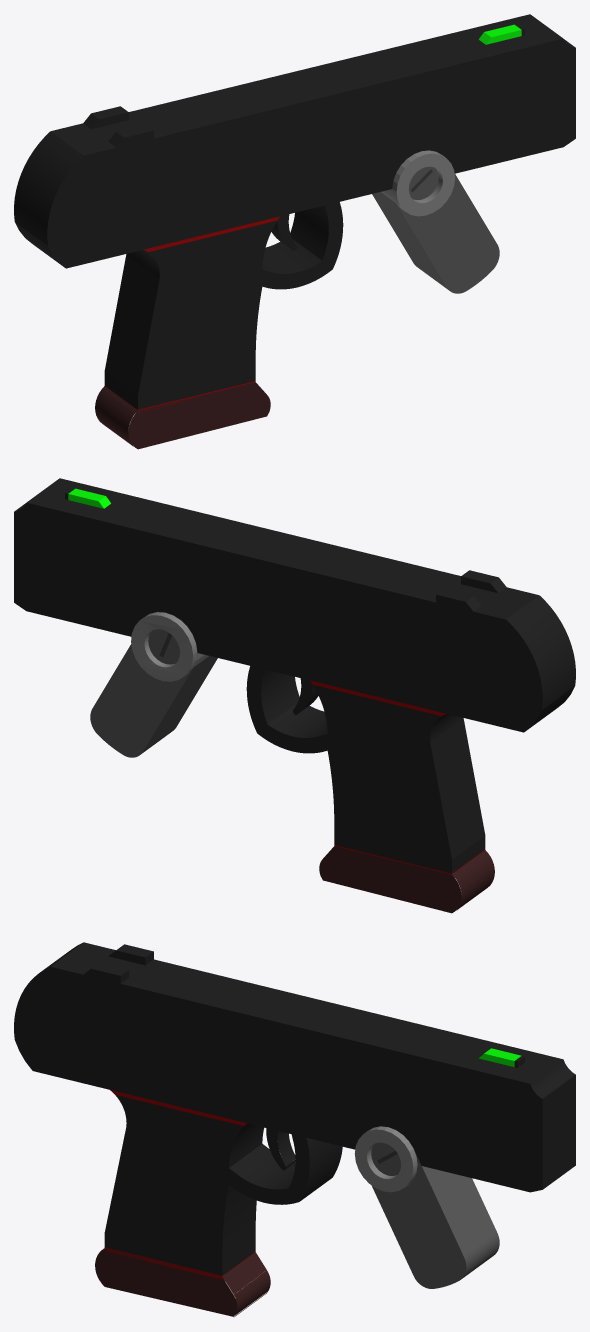
File: as-76.gltf.gltf.glb
3 views of the same model, one above another, from view 1: azimuth 30°, elevation 25°; view 2: azimuth 150°, elevation 25°; view 3: azimuth 330°, elevation 25° (orthographic).
Parts seen in each view (by area): view 1: root, root.004; view 2: root, root.004; view 3: root, root.004, root.003.
Part boxes in pixels (x1,y1,x2,y2): root: (14, 14, 575, 411); root.004: (95, 382, 270, 449); root: (14, 478, 575, 875); root.004: (319, 846, 494, 913); root: (14, 942, 575, 1288); root.004: (95, 1248, 270, 1316); root.003: (266, 1128, 295, 1170).
Bounding box in the file's own units: 2.6 × 1.48 × 0.356.
